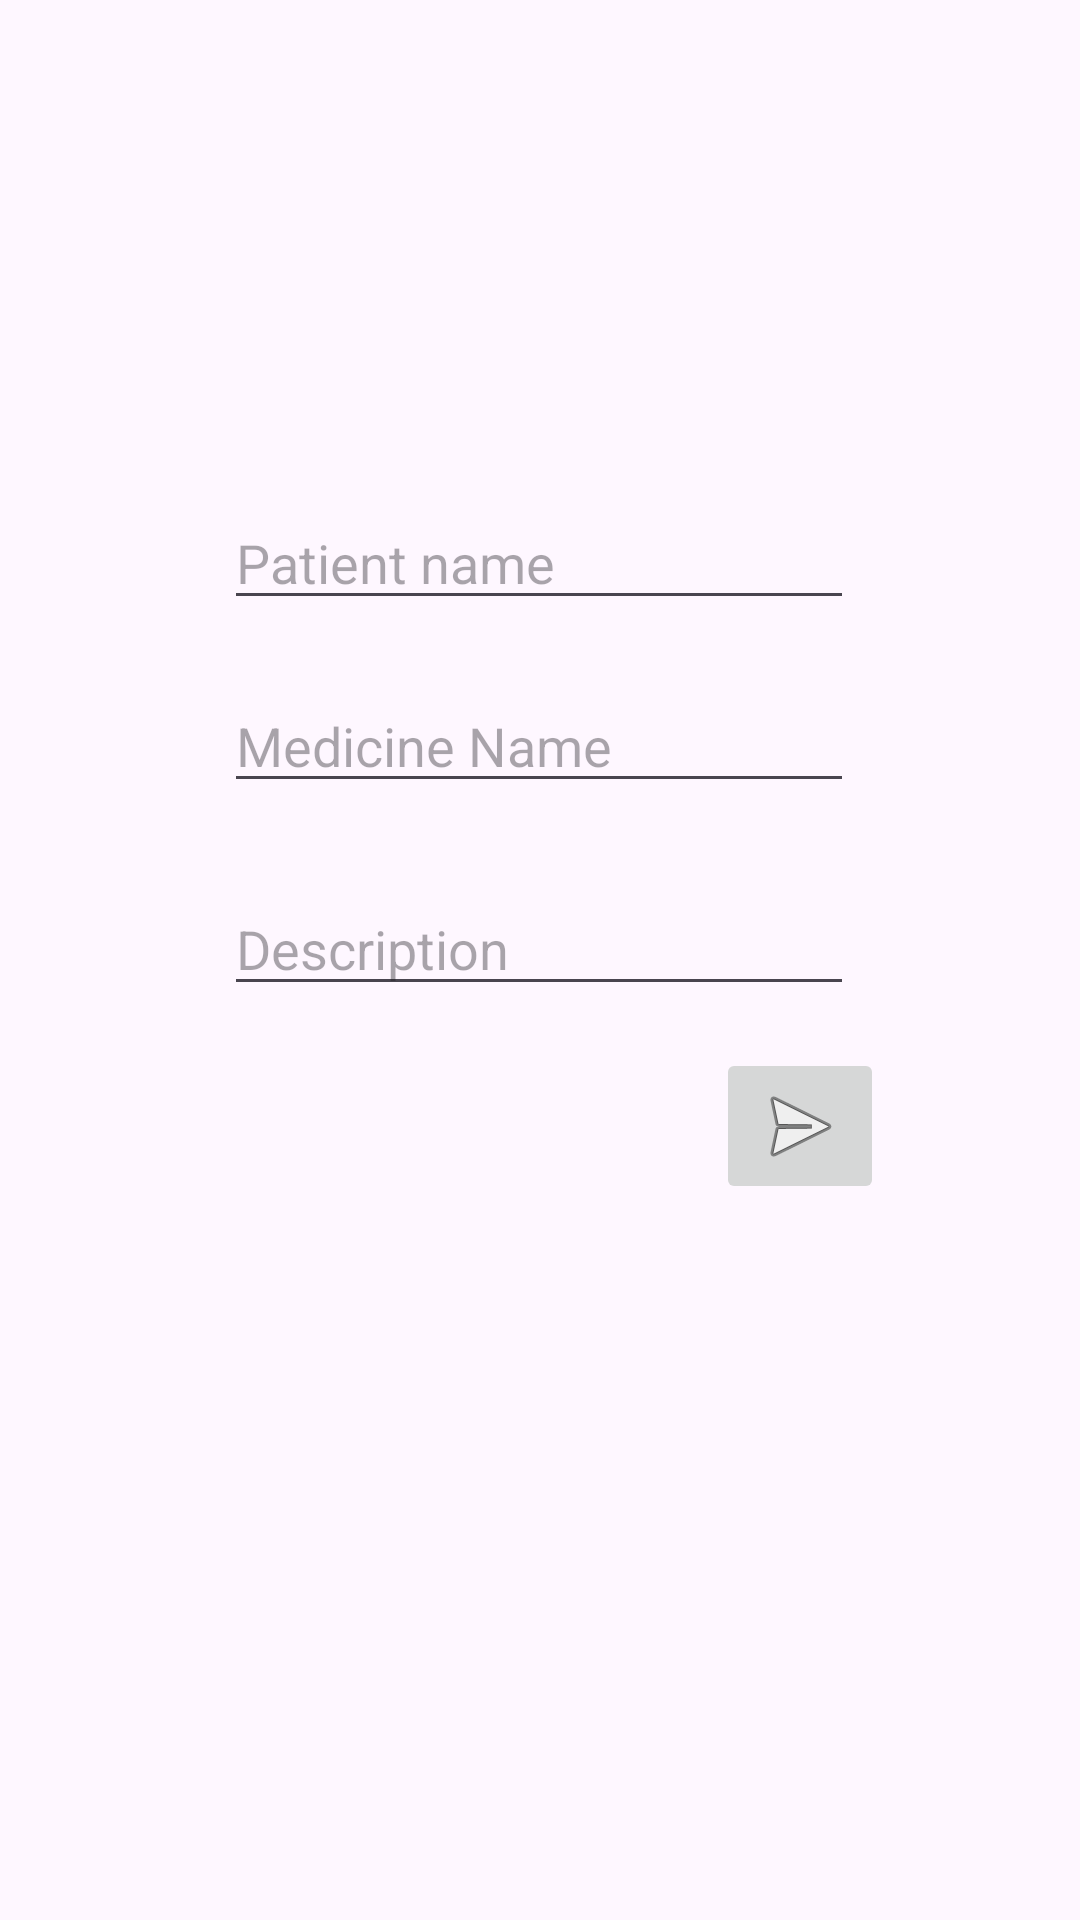

Icons on this 1080w x 1920h Android screen, each with the point to tap as [x,y]:
send: [800,1126]
